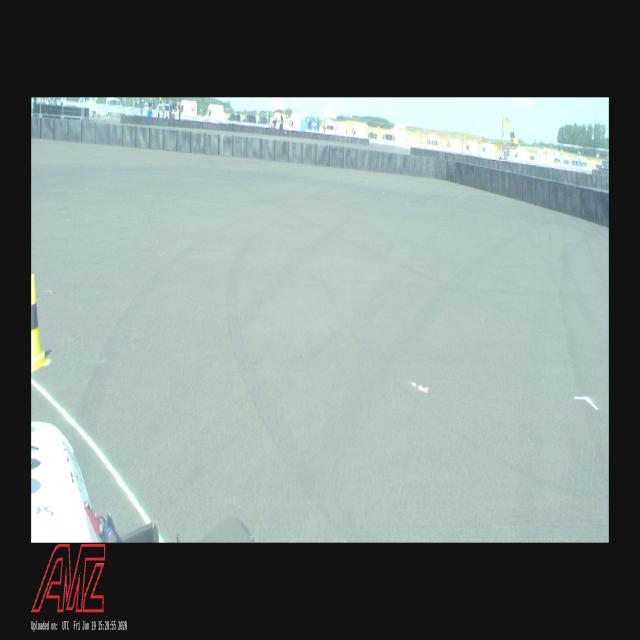yellow_cone: (31, 274, 45, 369)
